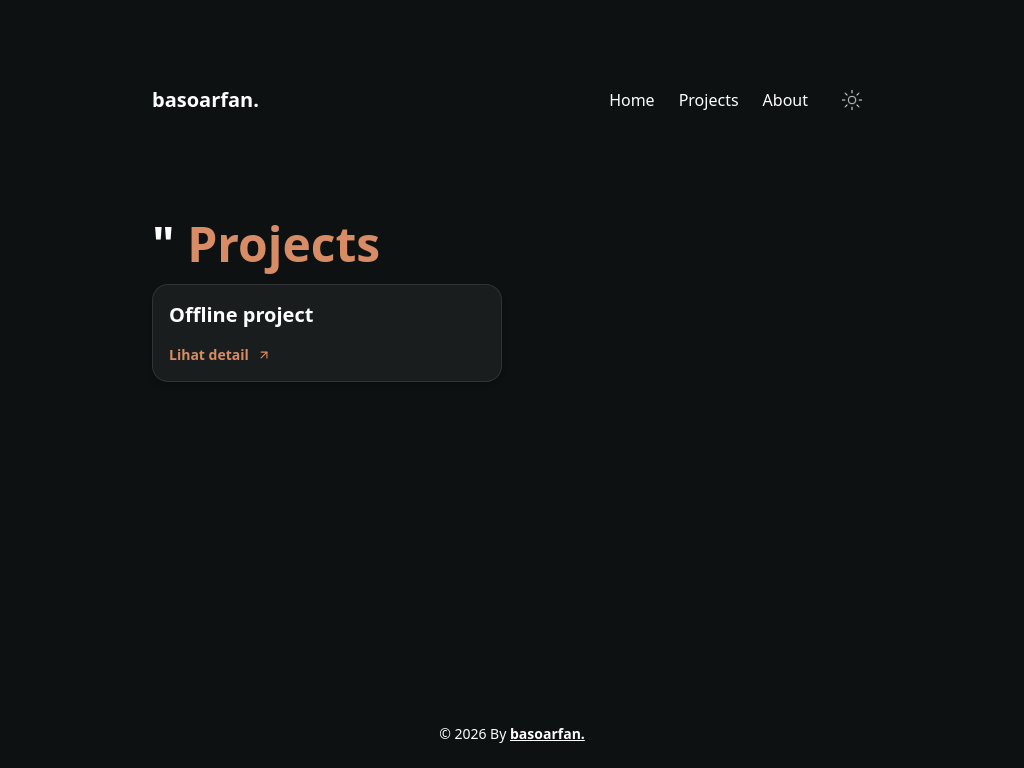
Test case: project without description or link still has usable details
The image size is (1024, 768).
Step 1. Click the button "Lihat detail Offline project" → coordinates (241, 314), box [153,285,501,381]
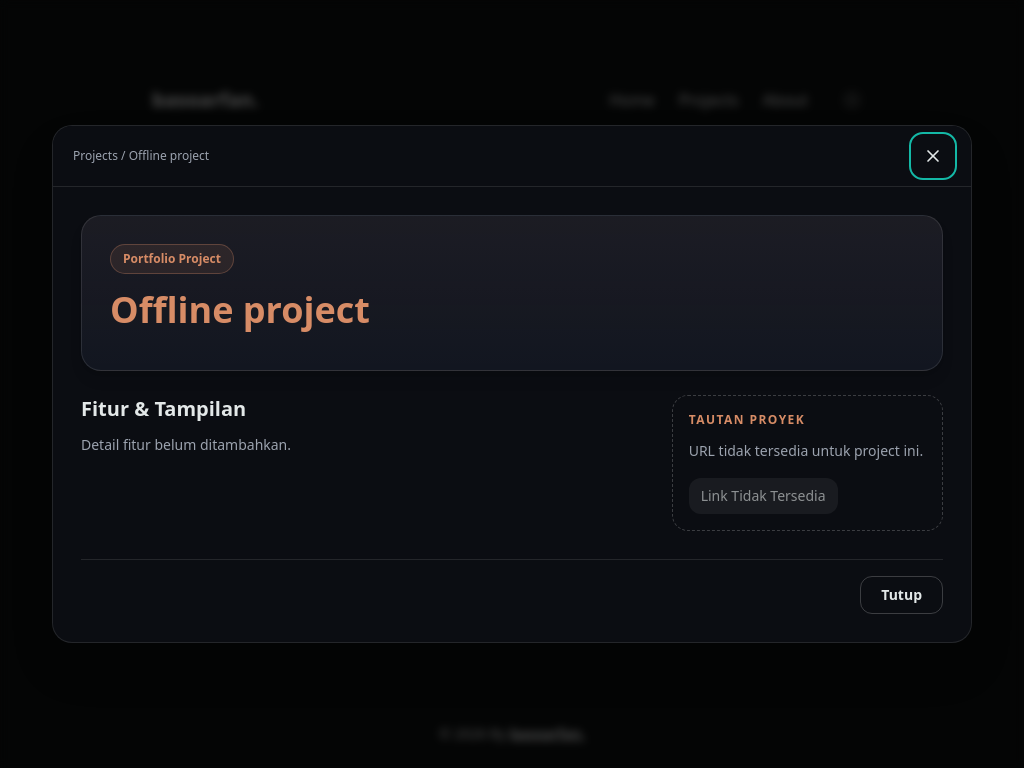
Check: the button "Link Tidak Tersedia" is disabled, box [689,478,838,514]
Step 2. Click the button named "Tutup detail proyek" → coordinates (933, 156), box [915,138,951,174]
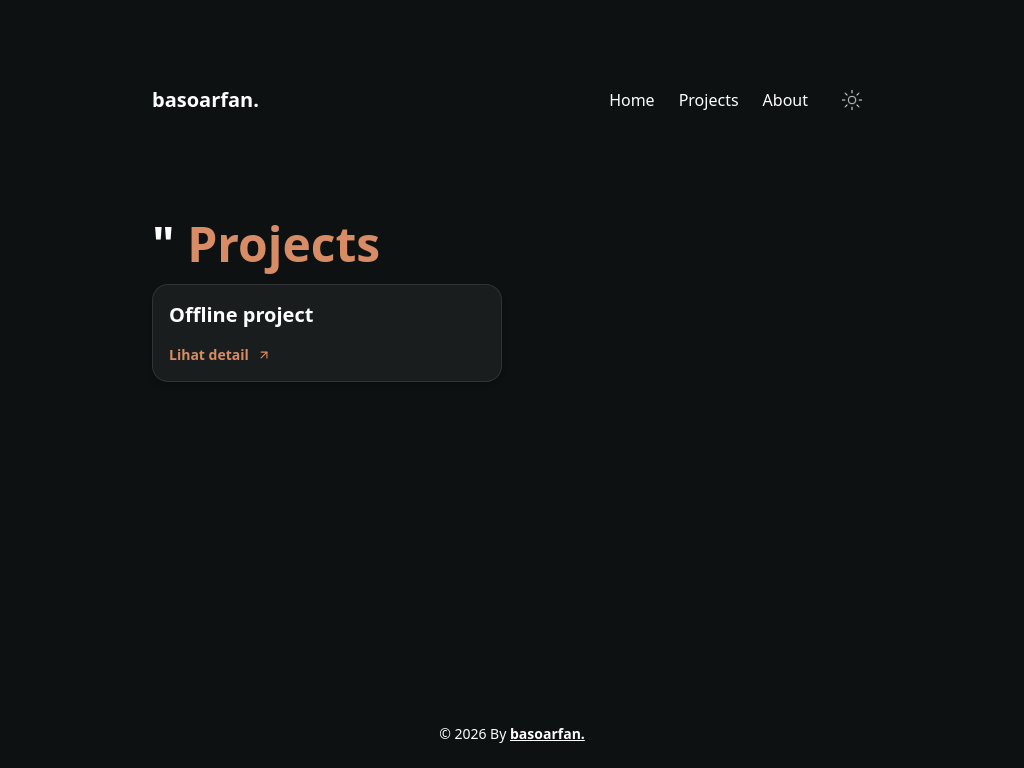
Check: the dialog is gone
